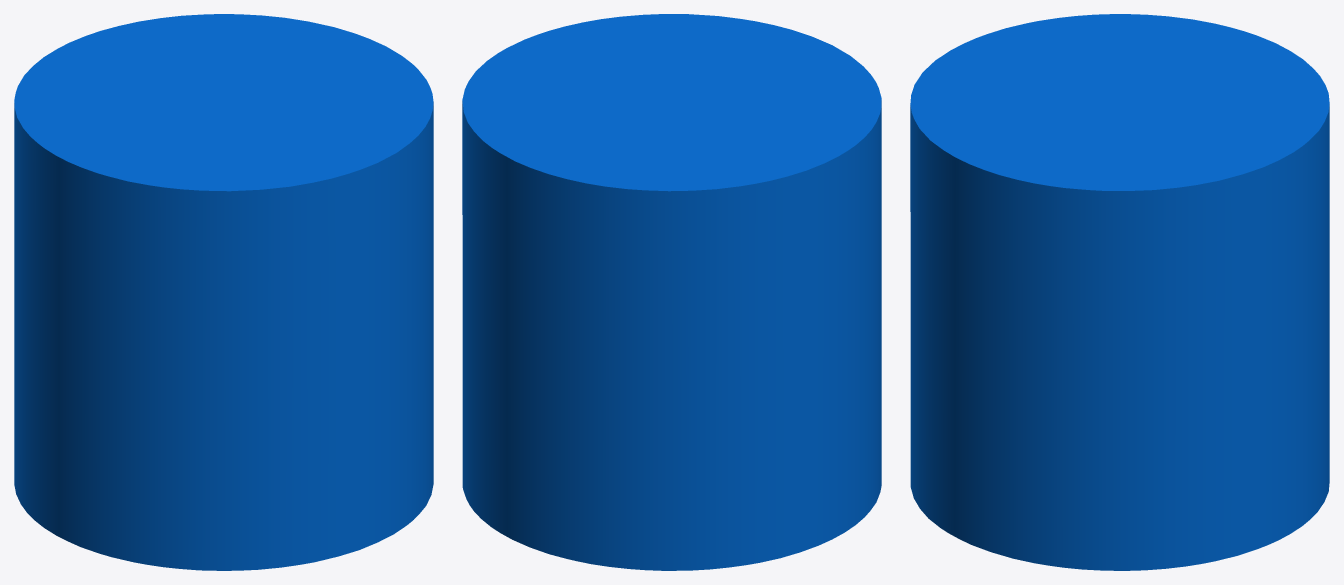
File: SM_Cylinder_e5baa95a87.glb
The picture shows the model from 3 angles, left to right: view 1: azimuth 30°, elevation 25°; view 2: azimuth 150°, elevation 25°; view 3: azimuth 270°, elevation 25°; orthographic projection.
Visible parts, largest first — view 1: SM_Cylinder; view 2: SM_Cylinder; view 3: SM_Cylinder.
Boxes of the visible parts, x1,y1,x2,y2 form: SM_Cylinder: (14, 14, 433, 570); SM_Cylinder: (462, 14, 881, 570); SM_Cylinder: (910, 14, 1329, 570).
Size of the model in its own units: 1 by 1 by 1.
